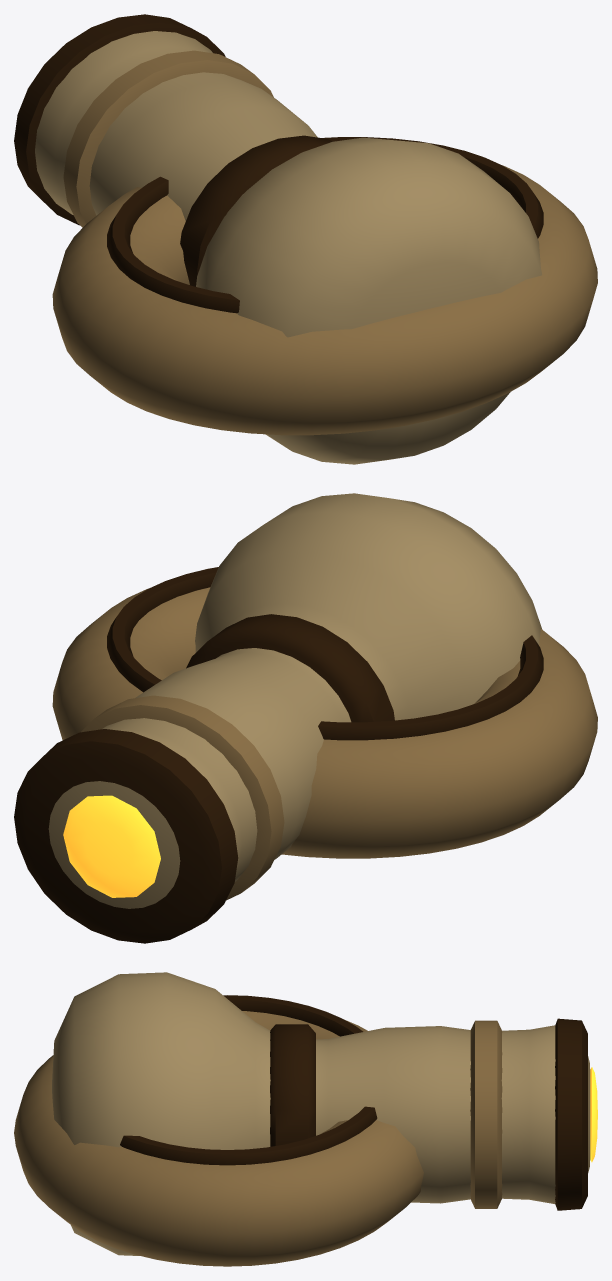
File: sk_canister.glb
3 renders of one model, top to bottom at view 1: azimuth 30°, elevation 25°; view 2: azimuth 150°, elevation 25°; view 3: azimuth 270°, elevation 25°, orthographic. The views are drawn at different scales.
Visible parts, largest first — view 1: bomb, hoop, neck_band, hoop_groove, lip, waist; view 2: bomb, hoop, lip, hoop_groove, waist, neck_band, fuse; view 3: bomb, hoop, hoop_groove, lip, neck_band, waist, fuse.
Part boxes in pixels (box(x1,y1,x2,y2)): bomb: box(35, 31, 542, 464); hoop: box(52, 165, 597, 435); neck_band: box(63, 50, 273, 227); hoop_groove: box(107, 137, 543, 313); lip: box(14, 14, 225, 225); waist: box(180, 135, 332, 286); bomb: box(48, 493, 542, 908); hoop: box(52, 587, 597, 858); lip: box(14, 729, 238, 943); hoop_groove: box(107, 567, 543, 740); waist: box(186, 614, 394, 722); neck_band: box(81, 695, 284, 900); fuse: box(63, 795, 160, 897); bomb: box(52, 972, 590, 1255); hoop: box(14, 1011, 423, 1266); hoop_groove: box(120, 995, 377, 1165); lip: box(555, 1018, 587, 1210); neck_band: box(470, 1020, 502, 1208); waist: box(270, 1024, 315, 1146); fuse: box(590, 1067, 597, 1162).
Bounding box in the file's own units: 11.9 × 6.93 × 14.5.
